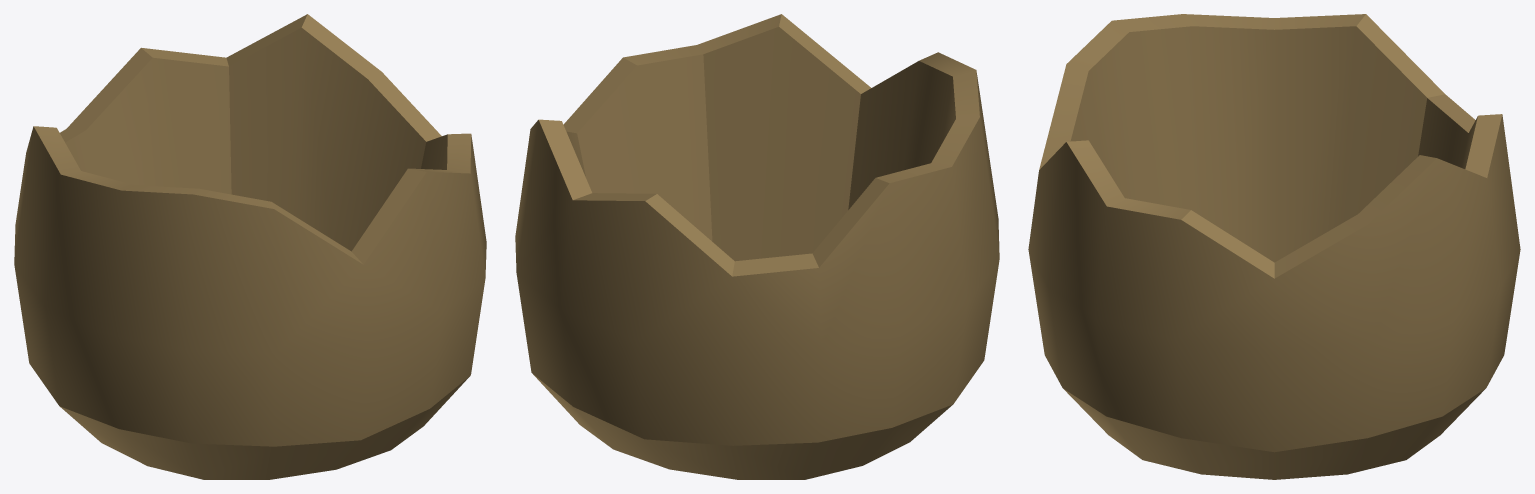
File: Pot3_Broken.glb
3 renders of one model, left to right at view 1: azimuth 30°, elevation 25°; view 2: azimuth 150°, elevation 25°; view 3: azimuth 270°, elevation 25°, orthographic. The views are drawn at different scales.
Parts seen in each view (by area): view 1: Pot3_Broken_Cube.110; view 2: Pot3_Broken_Cube.110; view 3: Pot3_Broken_Cube.110.
Boxes of the visible parts, x1,y1,x2,y2 form: Pot3_Broken_Cube.110: (14, 14, 486, 479); Pot3_Broken_Cube.110: (515, 14, 999, 479); Pot3_Broken_Cube.110: (1028, 14, 1520, 479).
Bounding box in the file's own units: 0.4633 × 0.3271 × 0.4633.
